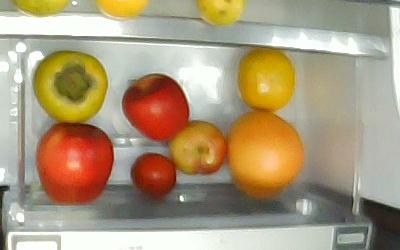apple: (34, 121, 114, 204), (121, 72, 190, 142)
grapefruit: (224, 108, 304, 199)
persimmon: (31, 49, 108, 123), (236, 47, 295, 111)
prune: (166, 119, 227, 175), (129, 151, 176, 196)
